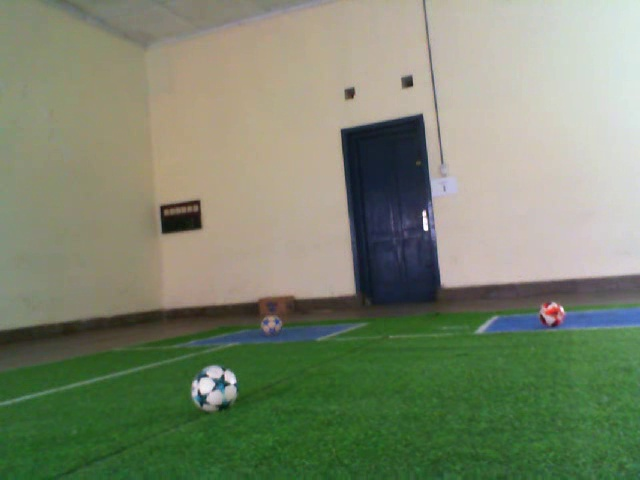ball: (188, 362, 240, 415), (537, 296, 569, 331), (258, 311, 286, 340)
